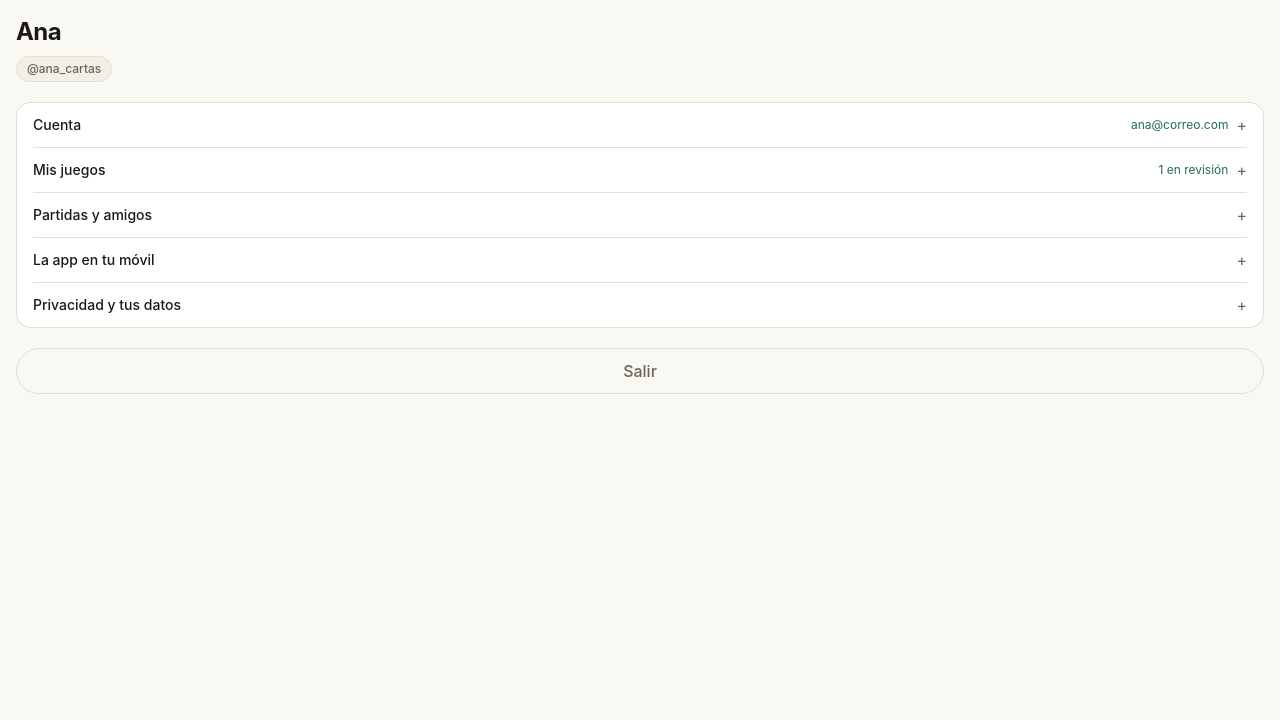
Scenario: el perfil, en desplegables › en Cuenta están el nombre, el usuario, el correo y la contraseña
This screenshot has width=1280, height=720.
Click the button "Cuenta ana@correo.com +" at (57, 124), box left=33, top=103, right=1247, bottom=147
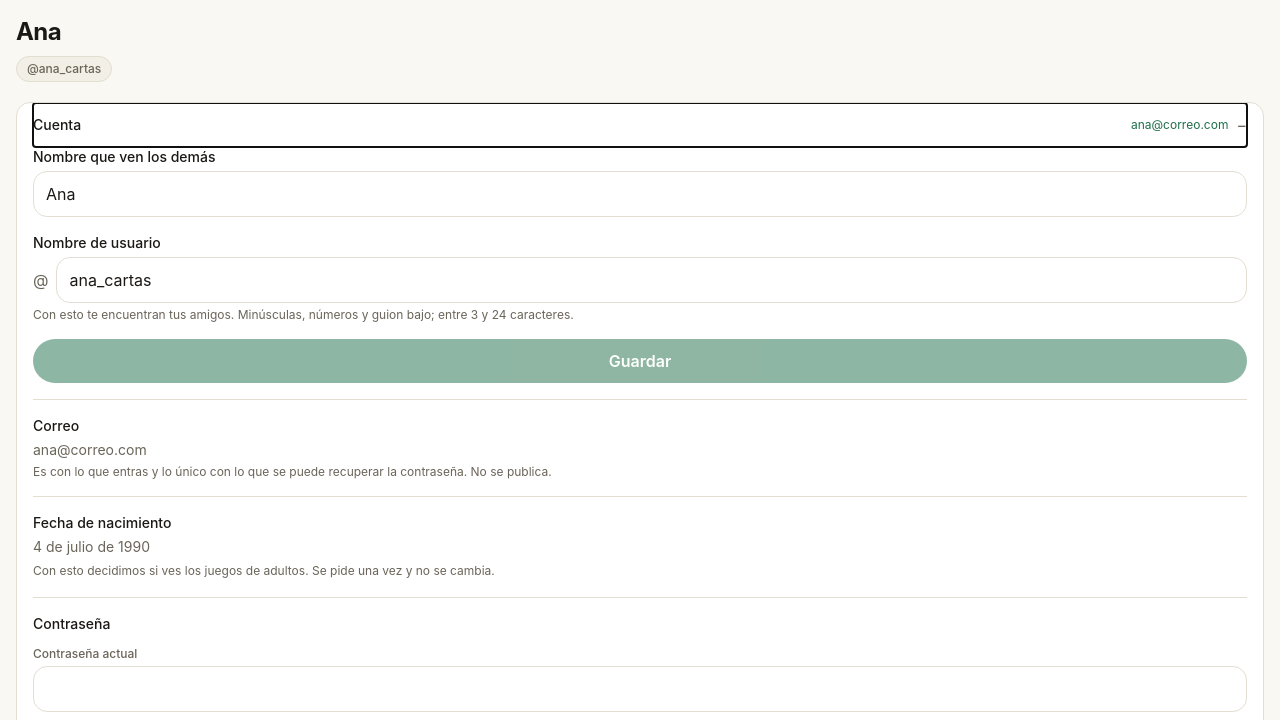
Expected: the field labelled "Nombre que ven los demás" holds "Ana", left=33, top=171, right=1247, bottom=217
Expected: the field labelled "Nombre de usuario" holds "ana_cartas", left=56, top=257, right=1247, bottom=303
Expected: the password field labelled "Contraseña actual" is shown, left=33, top=666, right=1247, bottom=712
